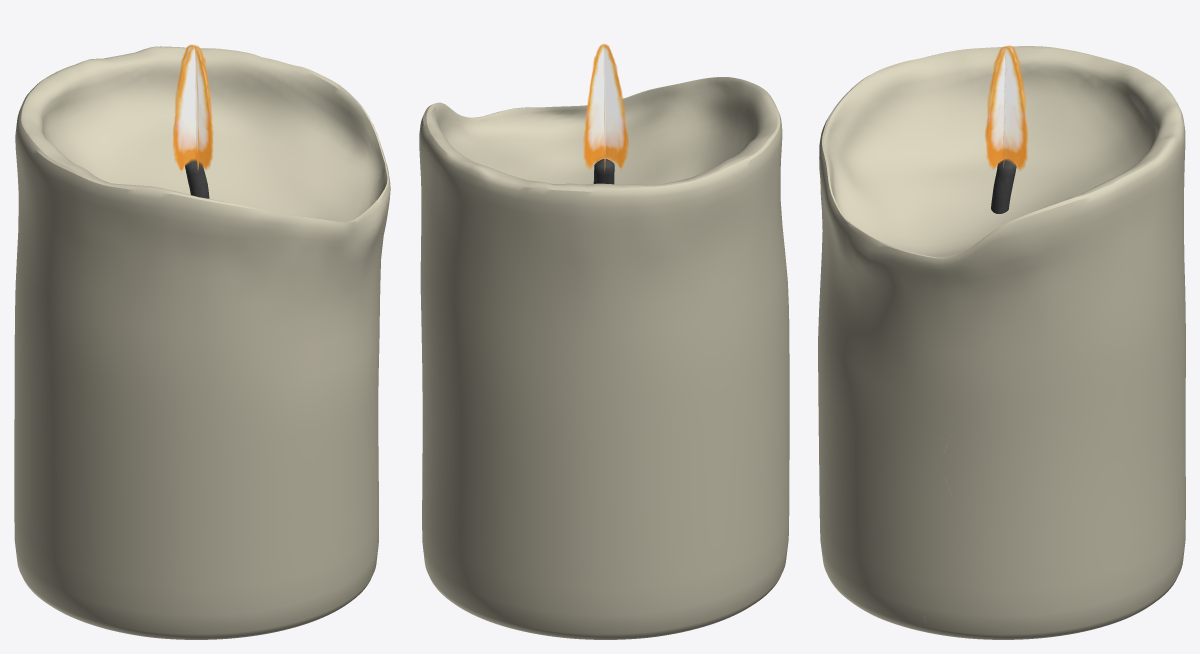
The model's file is candle.glb.
3 views of the same model, side by side, from view 1: azimuth 30°, elevation 25°; view 2: azimuth 150°, elevation 25°; view 3: azimuth 270°, elevation 25° (orthographic).
Visible parts, largest first — view 1: Candle, Candle_Light_Emitt, Candle_Light; view 2: Candle, Candle_Light_Emitt; view 3: Candle, Candle_Light_Emitt, Candle_Light.
Boxes of the visible parts, x1=… form: Candle: x1=14, y1=46, x2=390, y2=639; Candle_Light_Emitt: x1=172, y1=44, x2=213, y2=173; Candle_Light: x1=185, y1=159, x2=209, y2=198; Candle: x1=419, y1=77, x2=789, y2=639; Candle_Light_Emitt: x1=583, y1=44, x2=628, y2=170; Candle: x1=818, y1=46, x2=1185, y2=639; Candle_Light_Emitt: x1=985, y1=45, x2=1027, y2=170; Candle_Light: x1=991, y1=159, x2=1016, y2=213.
Bounding box in the file's own units: 0.121 × 0.1867 × 0.1183.
2 materials, 2 textured.
